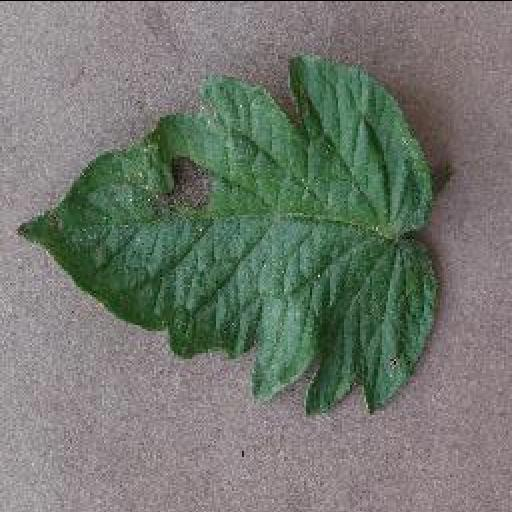disease_tomato: (14, 50, 442, 416)
